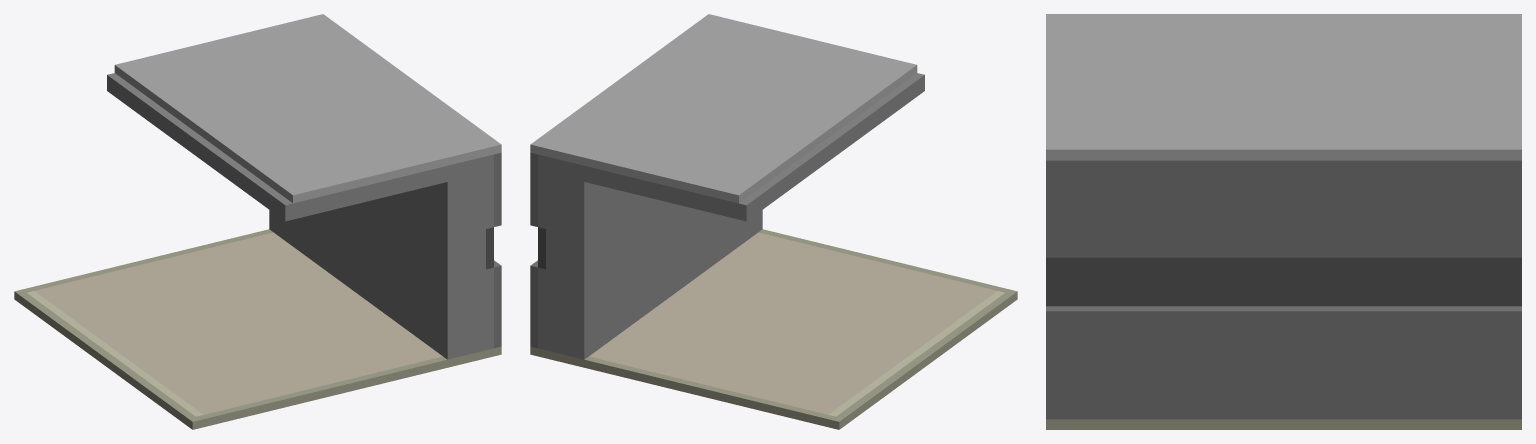
The model's file is Mesa_Meio.obj.
The picture shows the model from 3 angles, left to right: view 1: azimuth 30°, elevation 25°; view 2: azimuth 150°, elevation 25°; view 3: azimuth 270°, elevation 25°; orthographic projection. The views are drawn at different scales.
Bounding box in the file's own units: 40 × 26 × 40.
Materials: 1 (1 with a texture image).
